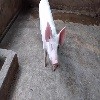heo: (38, 19, 67, 71)
